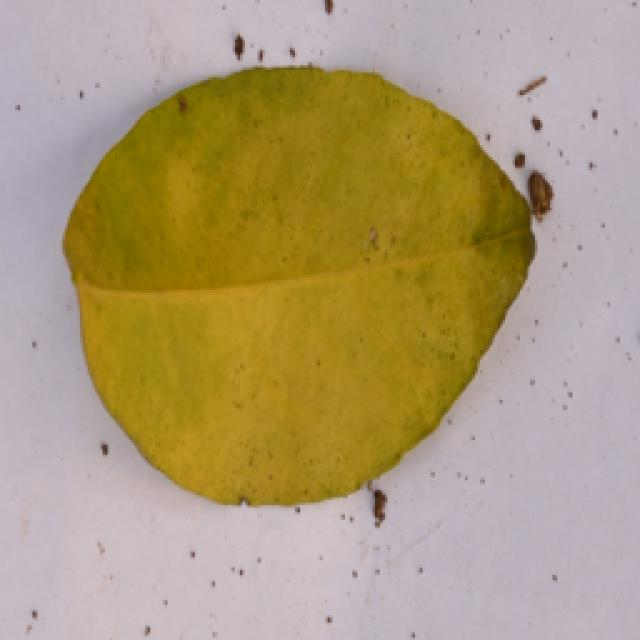canker: (85, 90, 521, 488)
